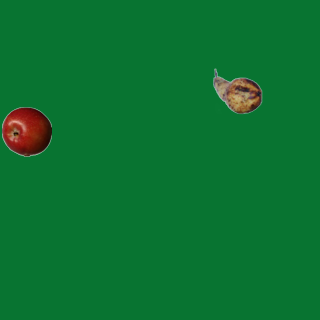Apple Braeburn: (1, 106, 51, 156)
Pear Abate: (212, 66, 262, 116)
